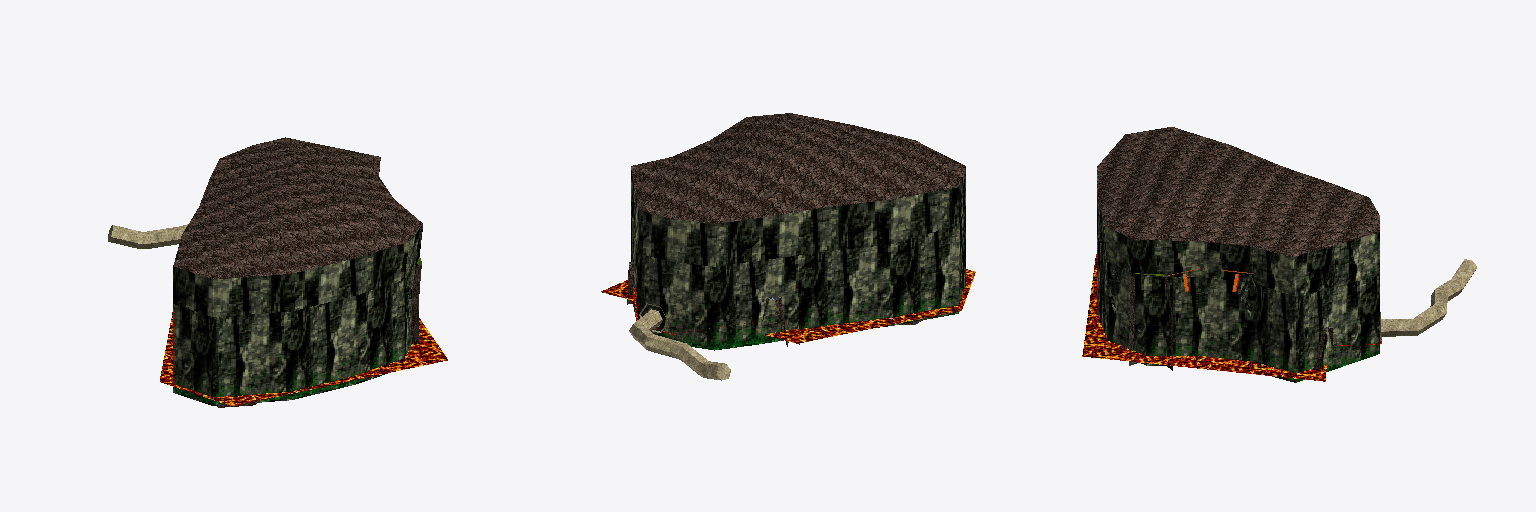
The picture shows the model from 3 angles: view 1: azimuth 30°, elevation 25°; view 2: azimuth 150°, elevation 25°; view 3: azimuth 270°, elevation 25°; orthographic projection.
Visible parts, largest first — view 1: 7a5, 71c, 784, 74b, 7bd, 849, 709, 7fe, 772; view 2: 71c, 784, 7a5, 74b, 6ed, 7bd, 709, 849, 7fe, 772; view 3: 71c, 6ed, 7a5, 74b, 75f, 709, 849, 7fe, 784, 772, 6b9.
Part boxes in pixels (left/top/right/bottom): 7a5: left=173, top=179, right=422, bottom=279; 71c: left=173, top=160, right=416, bottom=405; 784: left=173, top=225, right=422, bottom=353; 74b: left=210, top=146, right=422, bottom=223; 7bd: left=173, top=266, right=291, bottom=316; 849: left=160, top=312, right=447, bottom=405; 709: left=252, top=137, right=380, bottom=175; 7fe: left=108, top=224, right=187, bottom=248; 772: left=304, top=162, right=392, bottom=197; 71c: left=631, top=171, right=965, bottom=350; 784: left=715, top=200, right=965, bottom=294; 7a5: left=748, top=113, right=965, bottom=217; 74b: left=672, top=117, right=789, bottom=223; 6ed: left=631, top=211, right=671, bottom=319; 7bd: left=891, top=168, right=965, bottom=243; 709: left=631, top=157, right=704, bottom=218; 849: left=601, top=269, right=975, bottom=343; 7fe: left=629, top=303, right=730, bottom=380; 772: left=672, top=141, right=708, bottom=173; 71c: left=1097, top=232, right=1379, bottom=338; 6ed: left=1107, top=299, right=1379, bottom=382; 7a5: left=1097, top=127, right=1331, bottom=238; 74b: left=1134, top=174, right=1379, bottom=240; 75f: left=1134, top=240, right=1253, bottom=282; 709: left=1254, top=208, right=1379, bottom=256; 849: left=1082, top=254, right=1326, bottom=381; 7fe: left=1380, top=259, right=1476, bottom=340; 784: left=1097, top=198, right=1138, bottom=275; 772: left=1203, top=208, right=1295, bottom=246; 6b9: left=1129, top=273, right=1172, bottom=370.
Bounding box in the file's own units: 9874 × 5372 × 11637.
18 materials, 17 textured.